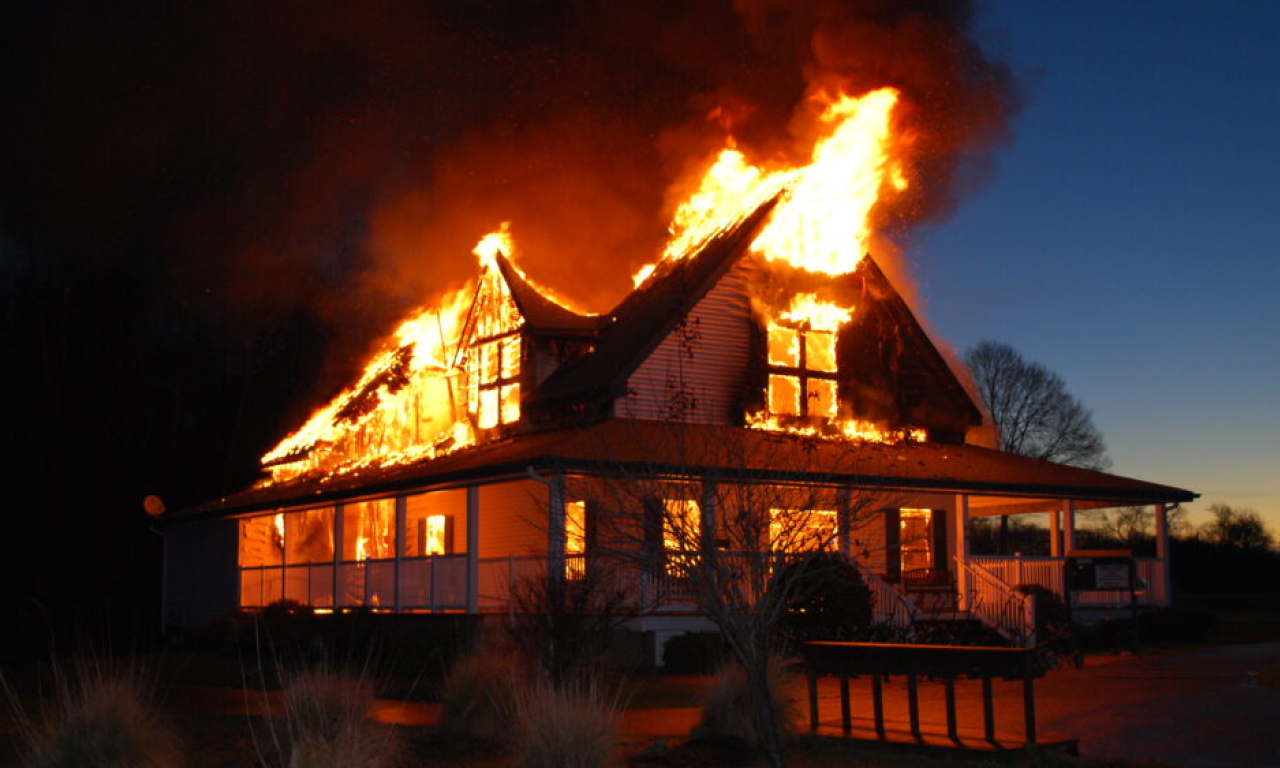fire: (185, 63, 998, 607)
